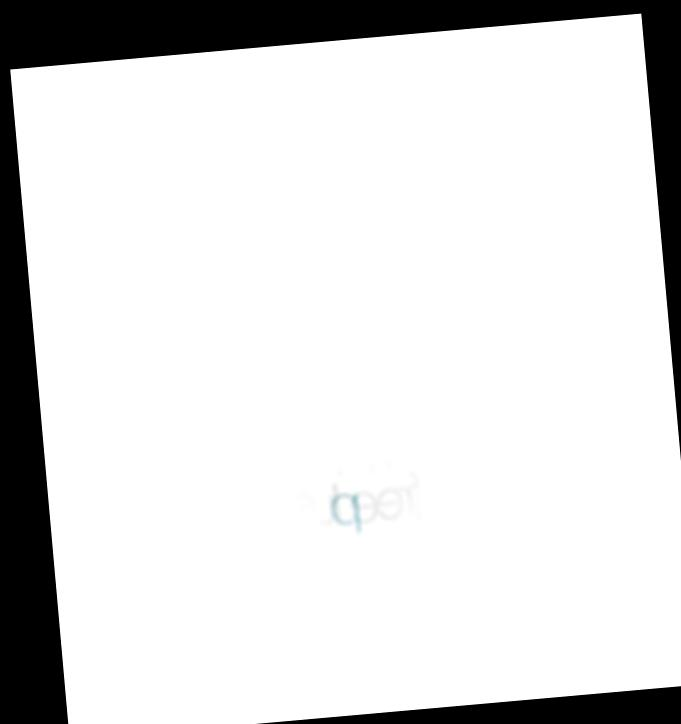cosmetic: (195, 70, 484, 673)
